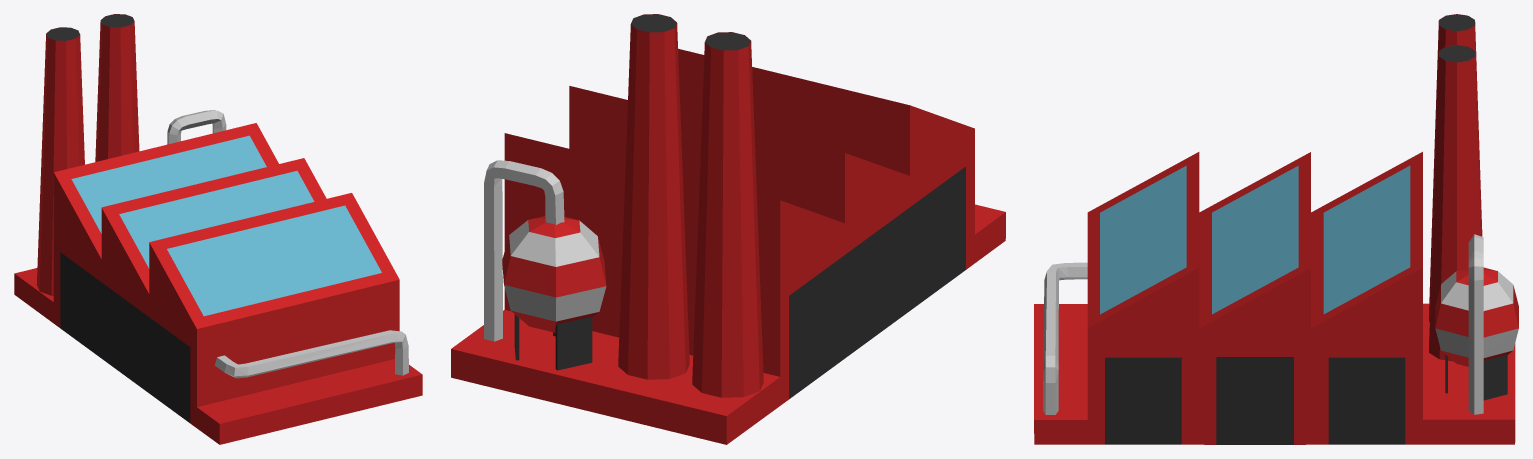
The model's file is factory.dae.
3 renders of one model, left to right at view 1: azimuth 30°, elevation 25°; view 2: azimuth 150°, elevation 25°; view 3: azimuth 270°, elevation 25°, orthographic. The views are drawn at different scales.
Parts seen in each view (by area): view 1: polymsh_Pts_Material__2__Surf, polymsh_Pts_Material__4__Surf, polymsh_Pts_Material__1__Surf, polymsh_Pts_Material__3__Surf; view 2: polymsh_Pts_Material__2__Surf, polymsh_Pts_Material__1__Surf, polymsh_Pts_Material__3__Surf; view 3: polymsh_Pts_Material__2__Surf, polymsh_Pts_Material__4__Surf, polymsh_Pts_Material__1__Surf, polymsh_Pts_Material__3__Surf.
Boxes of the visible parts, x1,y1,x2,y2 form: polymsh_Pts_Material__2__Surf: [14, 14, 422, 444]; polymsh_Pts_Material__4__Surf: [71, 135, 381, 316]; polymsh_Pts_Material__1__Surf: [46, 14, 190, 422]; polymsh_Pts_Material__3__Surf: [167, 110, 408, 378]; polymsh_Pts_Material__2__Surf: [451, 14, 1005, 444]; polymsh_Pts_Material__1__Surf: [514, 14, 965, 399]; polymsh_Pts_Material__3__Surf: [484, 160, 606, 341]; polymsh_Pts_Material__2__Surf: [1034, 14, 1518, 444]; polymsh_Pts_Material__4__Surf: [1100, 165, 1410, 314]; polymsh_Pts_Material__1__Surf: [1105, 14, 1507, 444]; polymsh_Pts_Material__3__Surf: [1043, 234, 1518, 414].
Bounding box in the file's own units: 55.72 × 71.69 × 98.42.
